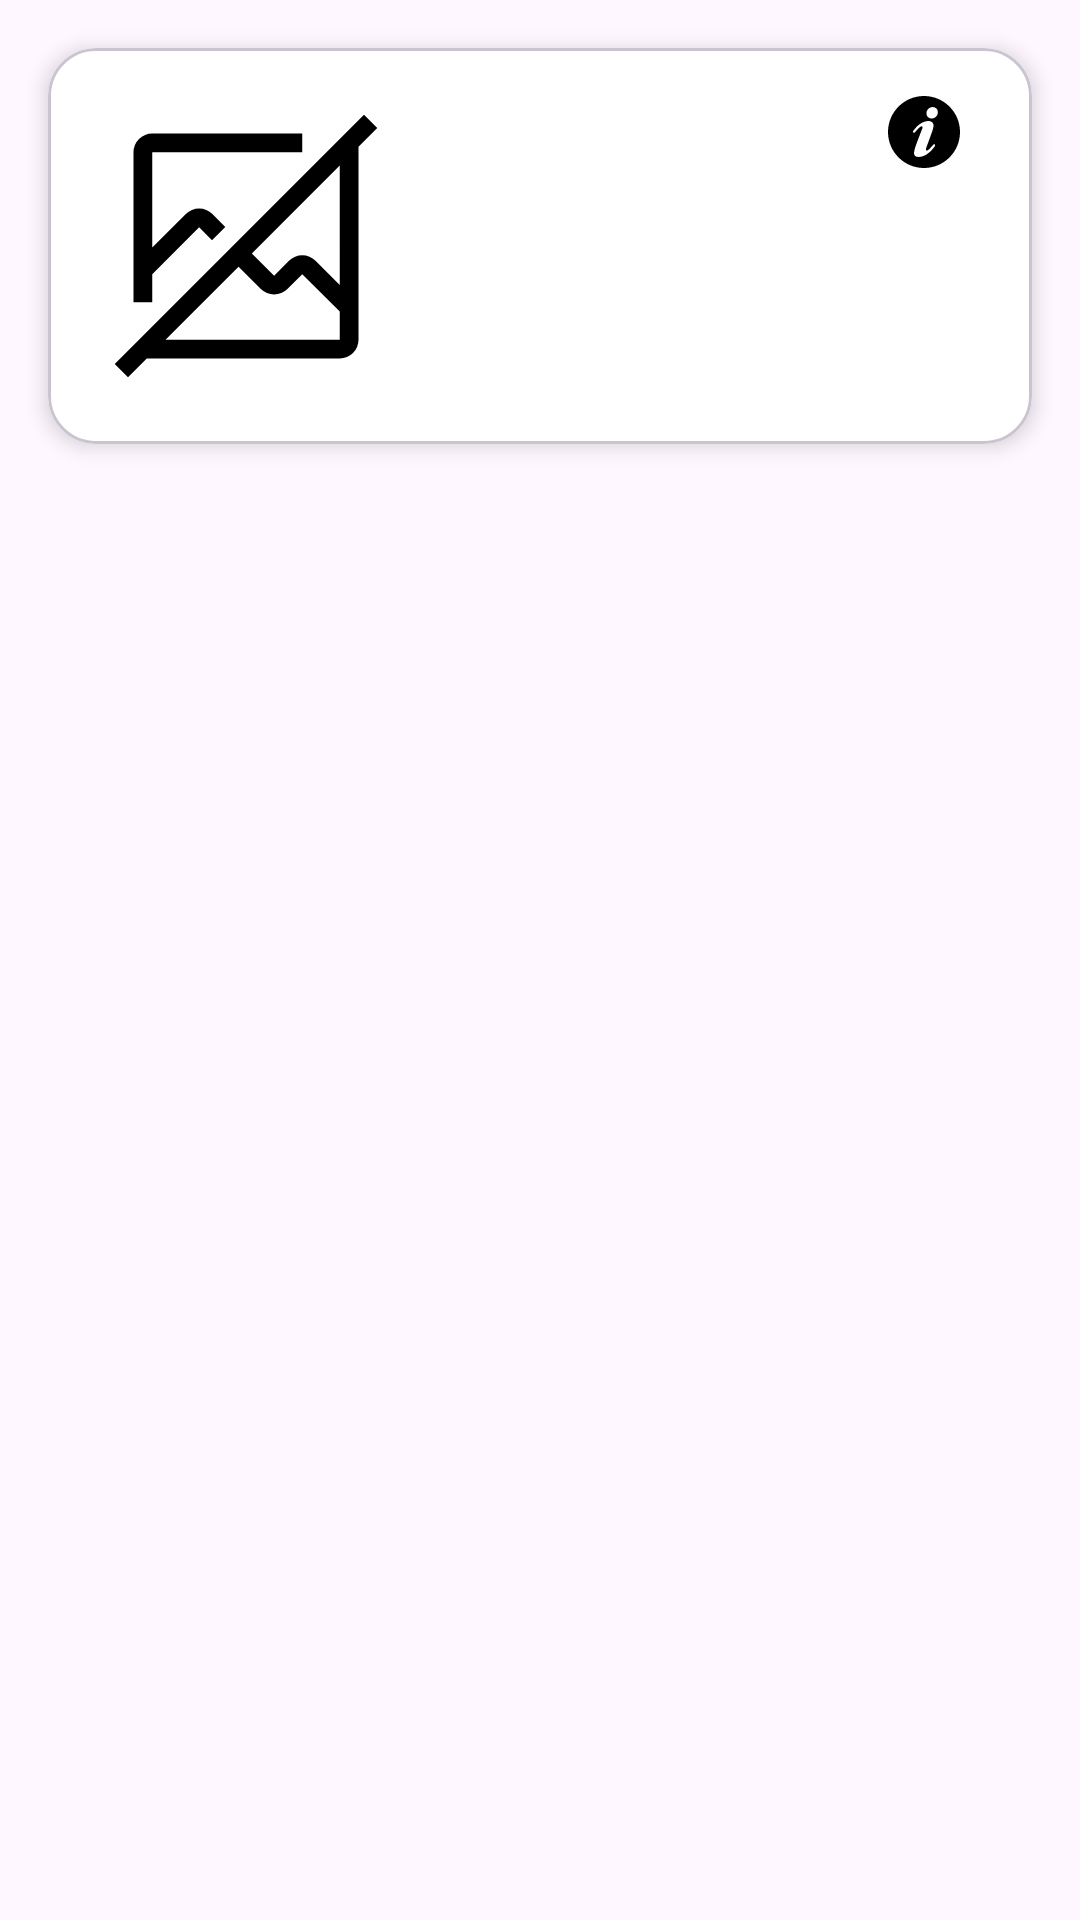

Screen size 1080px x 1920px. Icon name, then its center in pixels as point (x, y):
info: point (924, 132)
